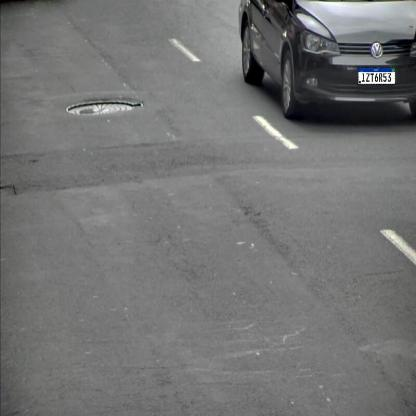PlacaM: (358, 67, 395, 85)
